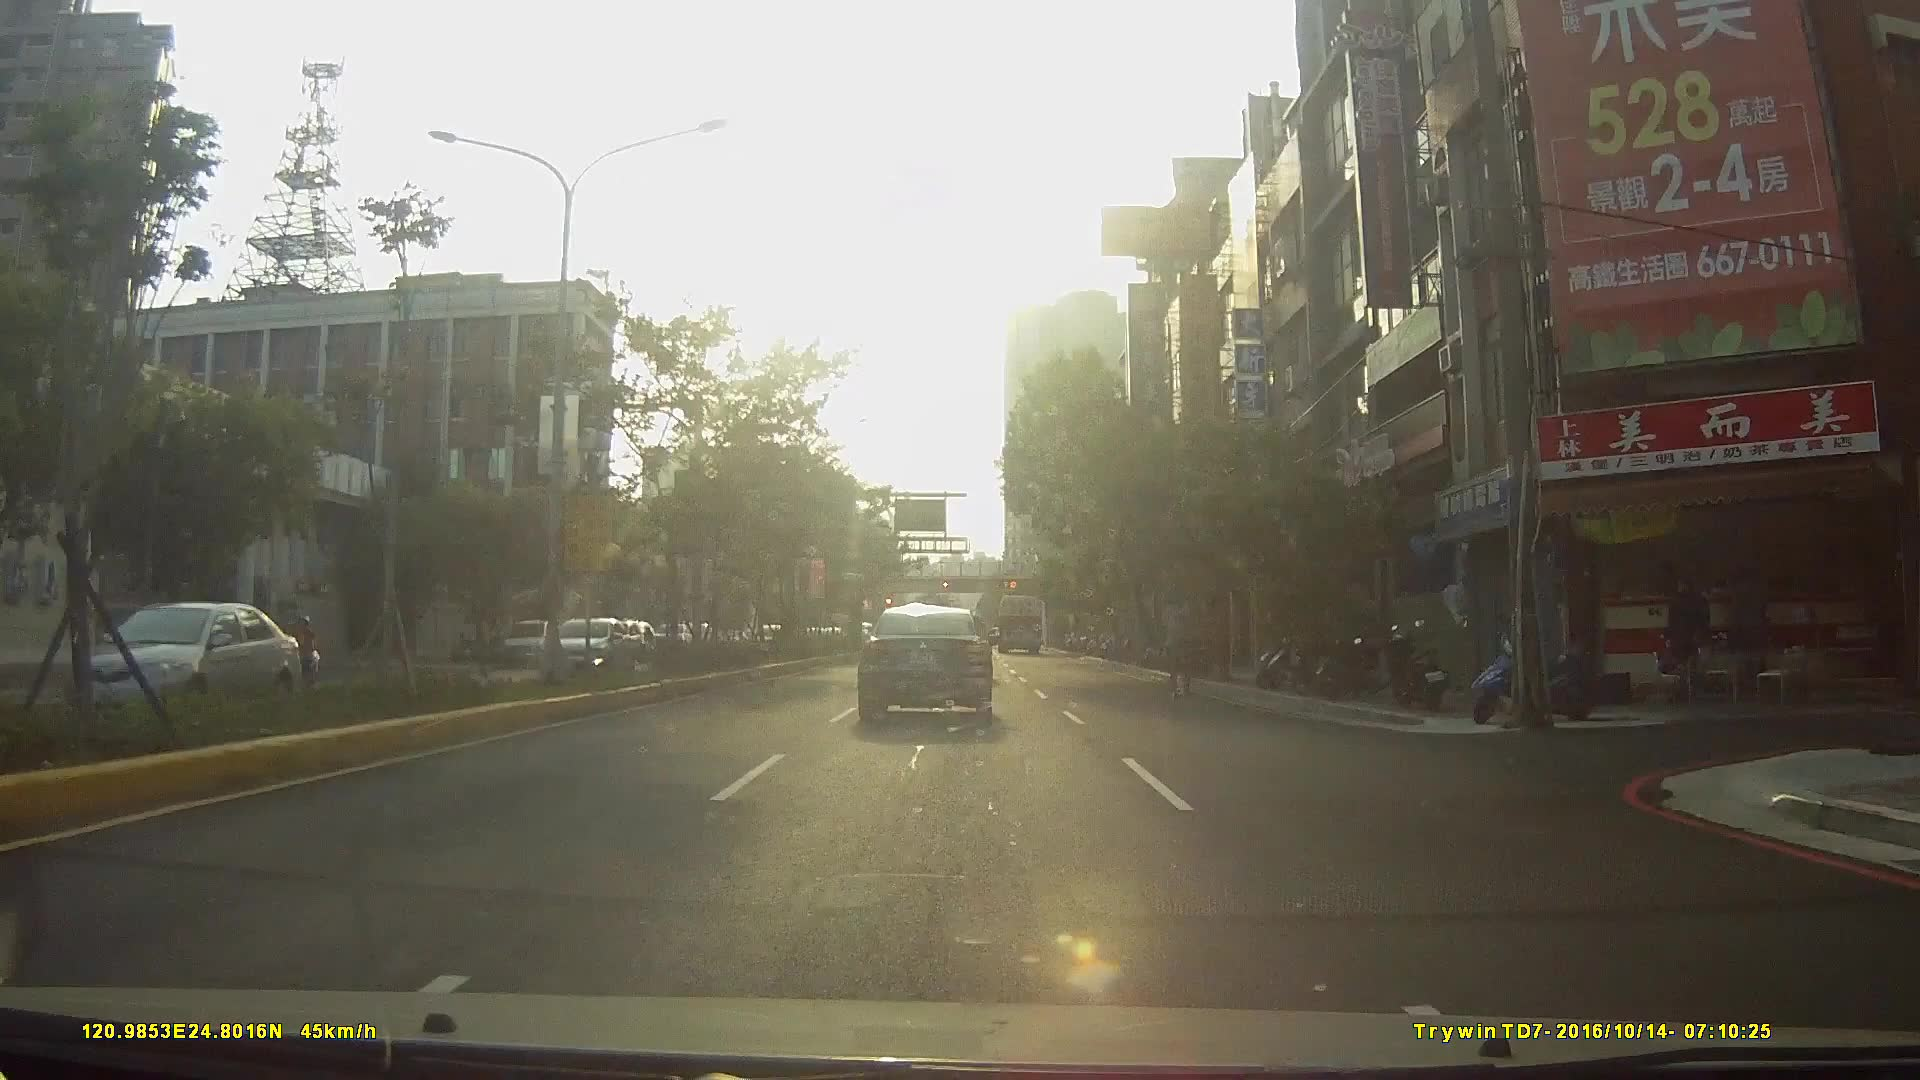pedestrian: (1163, 608, 1203, 704)
vehicle: (40, 591, 302, 729), (854, 602, 995, 725), (539, 613, 644, 686), (992, 592, 1043, 655), (499, 618, 560, 665)
